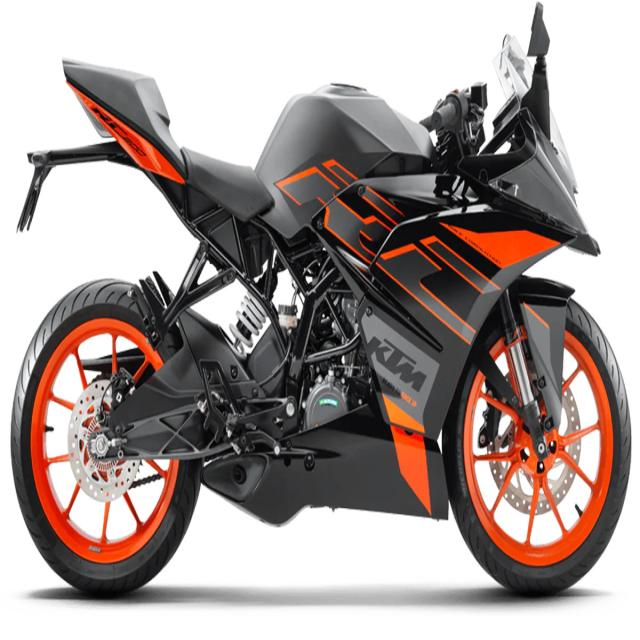Bike: (0, 35, 638, 602)
